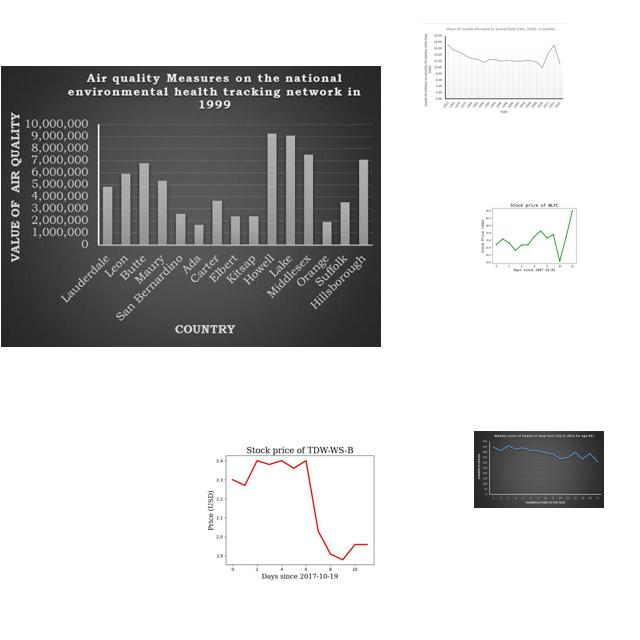Graph: (1, 66, 381, 347), (202, 438, 393, 581), (422, 23, 566, 116), (474, 431, 604, 508), (479, 195, 587, 276)
